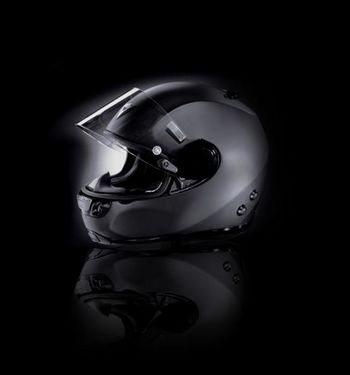helmet: (81, 92, 266, 233)
